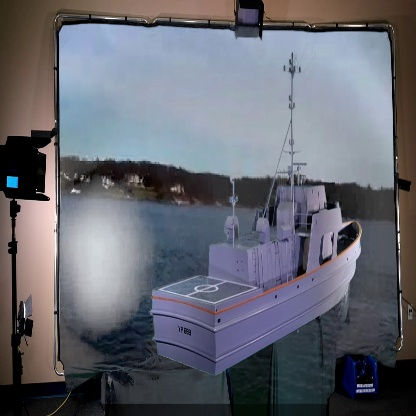YP689: (146, 59, 363, 379)
